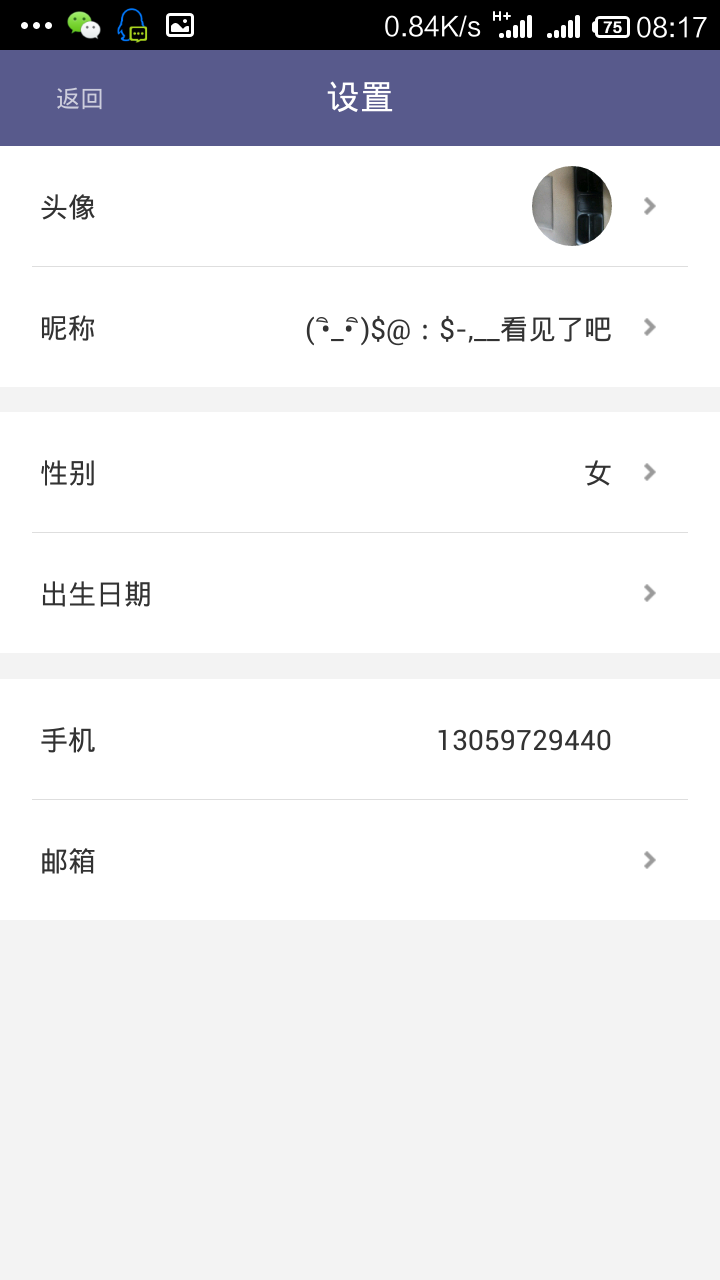textview: (1, 667, 720, 912)
